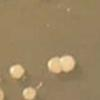white: (61, 53, 75, 75), (46, 56, 62, 75), (9, 63, 24, 81), (22, 84, 35, 100), (0, 88, 6, 100)
